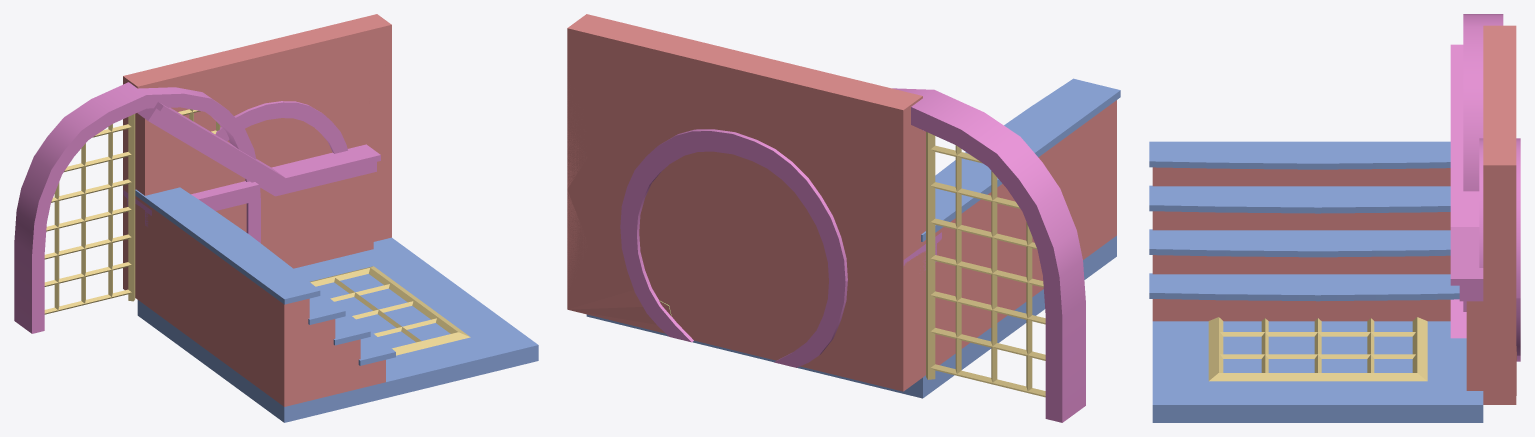
Rendered from Dungeon_architechture.fbx.
3 renders of one model, left to right at view 1: azimuth 30°, elevation 25°; view 2: azimuth 150°, elevation 25°; view 3: azimuth 270°, elevation 25°, orthographic. The views are drawn at different scales.
Visible parts, largest first — view 1: Dungeon_Stairs, Wall, Stair_wall_corner, Dungeon_floor_gate, Dugeon_arch, Wall_sewers, Dungeon_floor, Dungeon_arch_gate, Stair_wall_diagonal, Wall_arch, Stair_wall_end, Wall_broken_low (+2 smaller); view 2: Wall, Wall_sewers, Dungeon_Stairs, Wall_arch, Dungeon_arch_gate, Dugeon_arch, Wall_broken_low, Wall_broken_mid, Dungeon_floor_gate, Stair_wall_corner; view 3: Dungeon_Stairs, Dungeon_floor, Dungeon_floor_gate, Wall, Stair_wall_corner, Wall_sewers, Dungeon_arch_gate, Wall_broken_mid, Dugeon_arch, Stair_wall_triangle.
Part boxes in pixels (box(x1,y1,x2,y2)): Dungeon_Stairs: box(135, 187, 395, 406); Wall: box(123, 14, 391, 289); Stair_wall_corner: box(135, 102, 380, 304); Dungeon_floor_gate: box(137, 238, 538, 422); Dugeon_arch: box(14, 93, 260, 333); Wall_sewers: box(125, 14, 391, 239); Dungeon_floor: box(138, 237, 536, 422); Dungeon_arch_gate: box(14, 82, 260, 333); Stair_wall_diagonal: box(138, 102, 290, 251); Wall_arch: box(171, 25, 391, 241); Stair_wall_end: box(123, 181, 258, 304); Wall_broken_low: box(127, 15, 391, 235); Wall: box(567, 14, 922, 391); Wall_sewers: box(567, 14, 921, 391); Dungeon_Stairs: box(921, 78, 1120, 376); Wall_arch: box(567, 28, 903, 391); Dungeon_arch_gate: box(892, 88, 1085, 422); Dugeon_arch: box(906, 89, 1080, 397); Wall_broken_low: box(567, 15, 917, 377); Wall_broken_mid: box(567, 29, 922, 390); Dungeon_floor_gate: box(586, 235, 1116, 398); Stair_wall_corner: box(913, 130, 925, 383); Dungeon_Stairs: box(1149, 141, 1459, 321); Dungeon_floor: box(1152, 321, 1482, 404); Dungeon_floor_gate: box(1152, 317, 1483, 422); Wall: box(1483, 25, 1516, 404); Stair_wall_corner: box(1450, 44, 1483, 390); Wall_sewers: box(1479, 25, 1520, 361); Dungeon_arch_gate: box(1463, 14, 1503, 191); Wall_broken_mid: box(1483, 165, 1516, 404); Dugeon_arch: box(1463, 30, 1483, 311); Stair_wall_triangle: box(1450, 299, 1466, 338).
Bounding box in the file's own units: 725 × 434 × 561.
